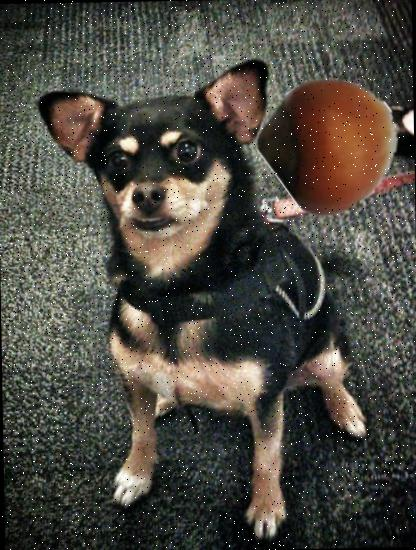Nut: (264, 74, 400, 209)
